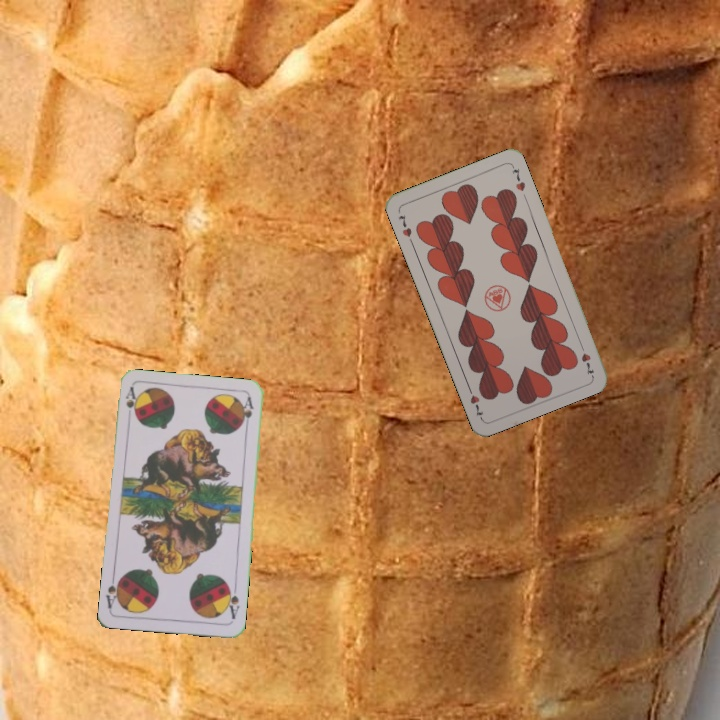H7: (575, 339, 597, 378), (394, 210, 416, 246)
SA: (222, 581, 242, 622), (121, 383, 140, 420)
